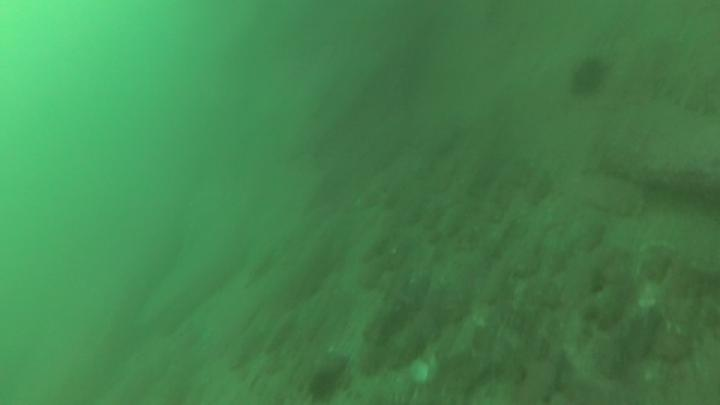echinus: (569, 56, 614, 98), (306, 366, 344, 405)
holothurian: (658, 60, 720, 119)
